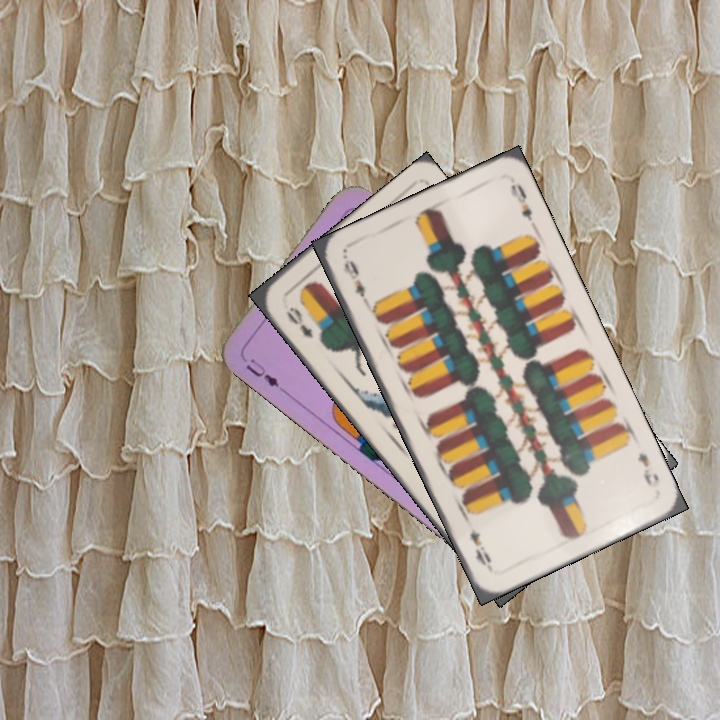E9: (339, 255, 373, 309), (633, 448, 662, 491)
EO: (281, 303, 316, 341)
EU: (241, 354, 282, 390)
